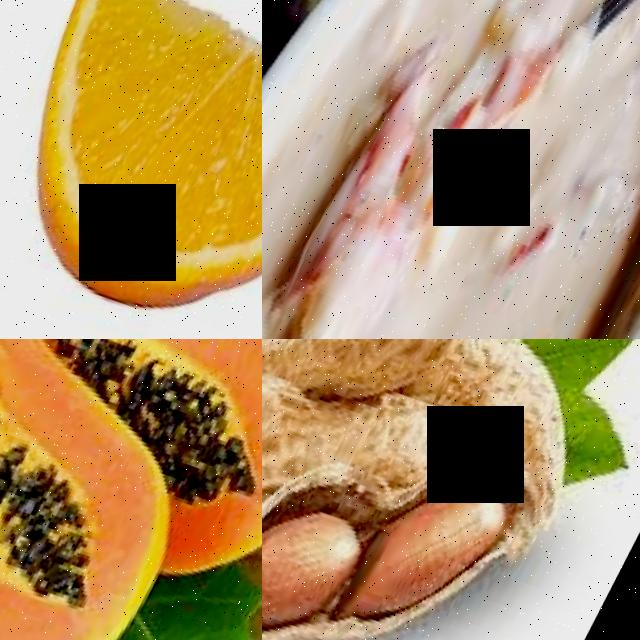orange: (0, 0, 262, 339)
pawpaw: (0, 339, 243, 640), (0, 339, 262, 530)
peanuts: (348, 458, 534, 640), (262, 481, 392, 640), (290, 339, 524, 419), (262, 341, 308, 588)
